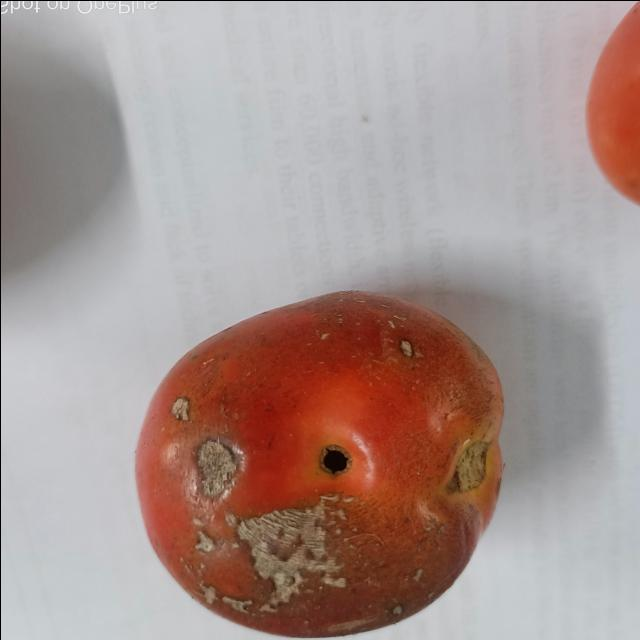fruitworm_bore: (186, 440, 246, 504), (308, 441, 355, 482)
